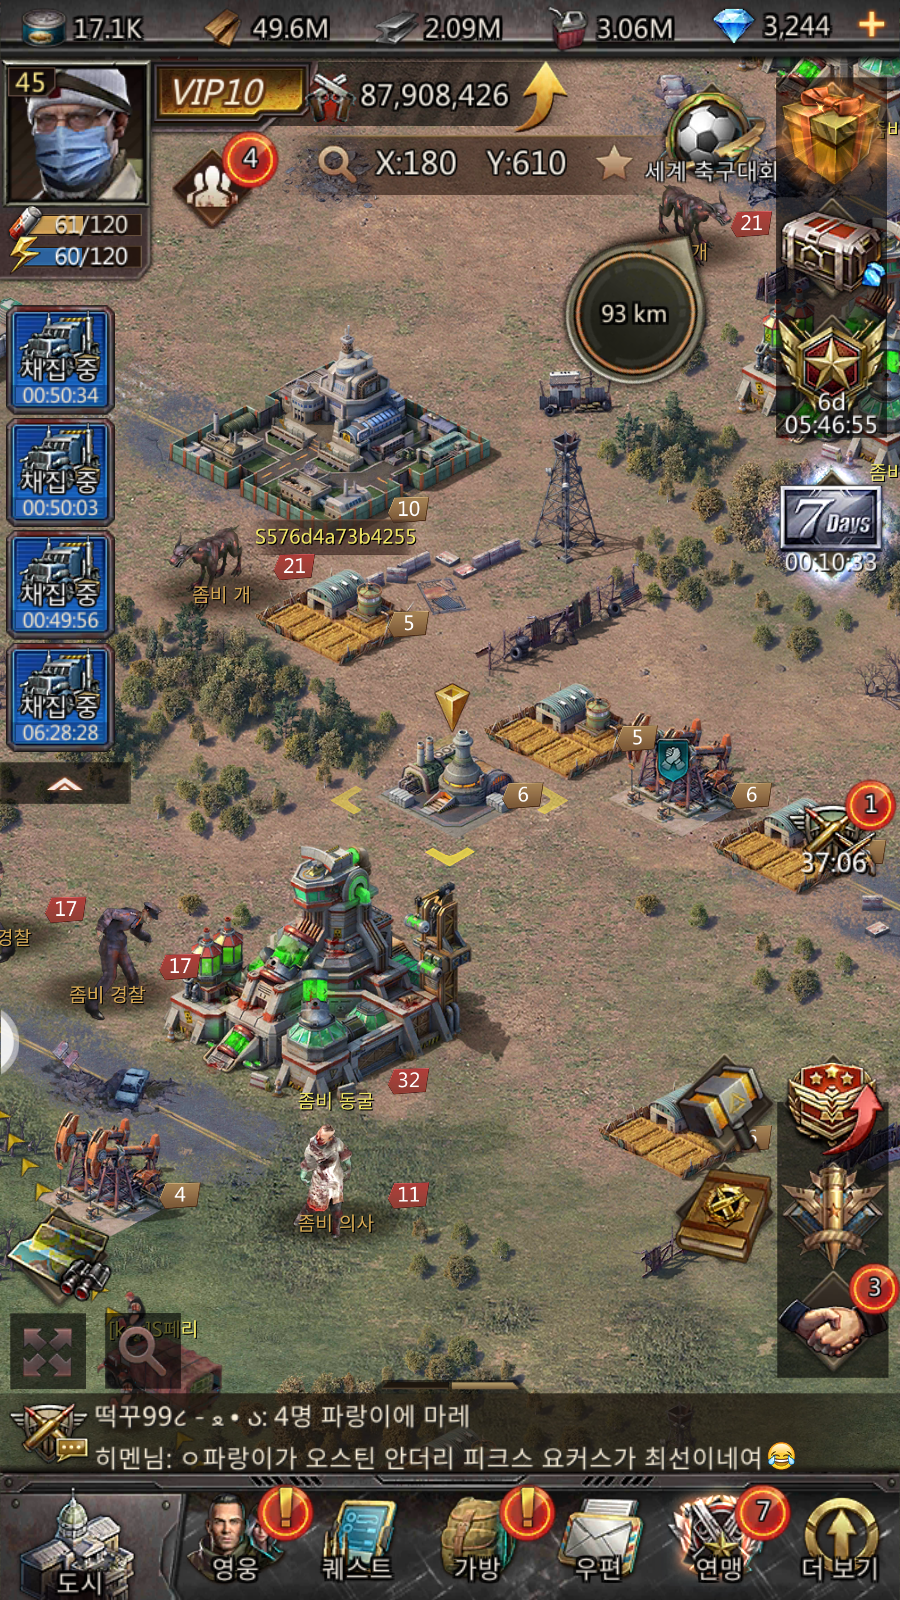city: (1, 1475, 184, 1600)
empty_steel: (315, 667, 593, 885)
open_panel: (91, 1295, 205, 1402)
troops_cnt_4: (164, 118, 287, 245)
